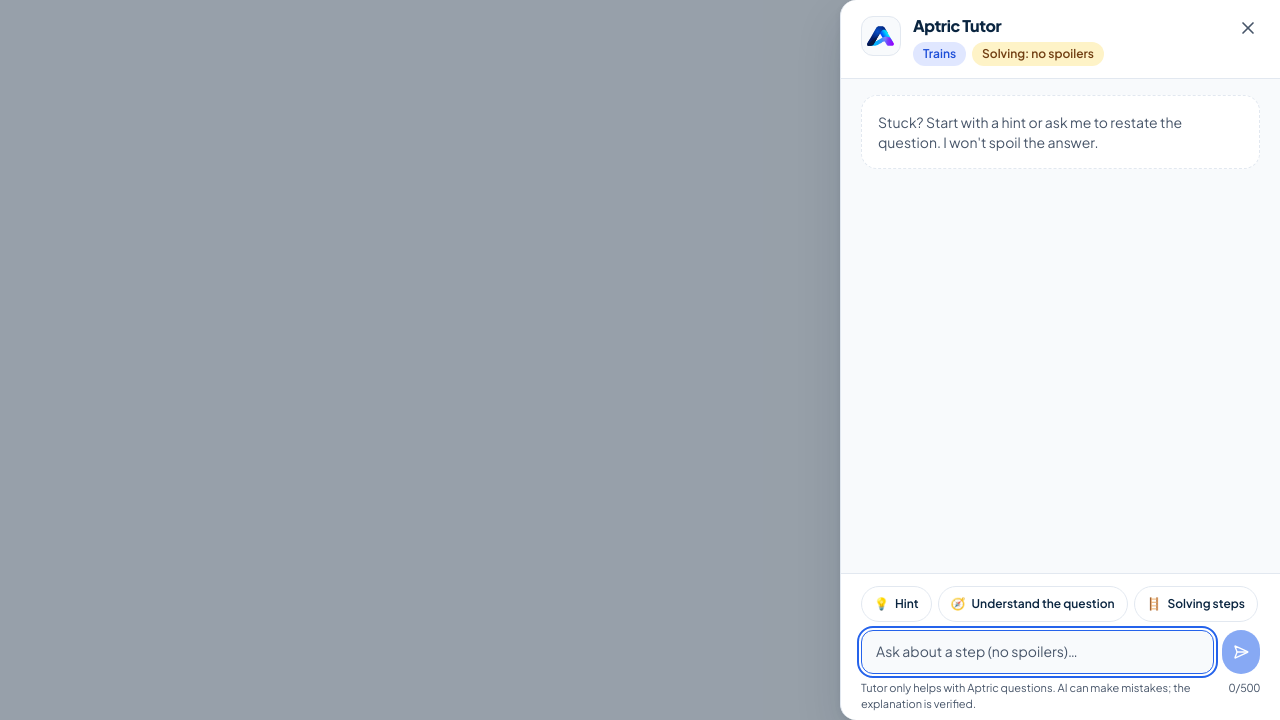
TutorPanel › a 409 from the server hands over to the give-up flow
This screenshot has width=1280, height=720.
Type "what is the answer" into the text box named "ask the tutor" at (1037, 652), box [861,630,1214,674]
Then press Enter
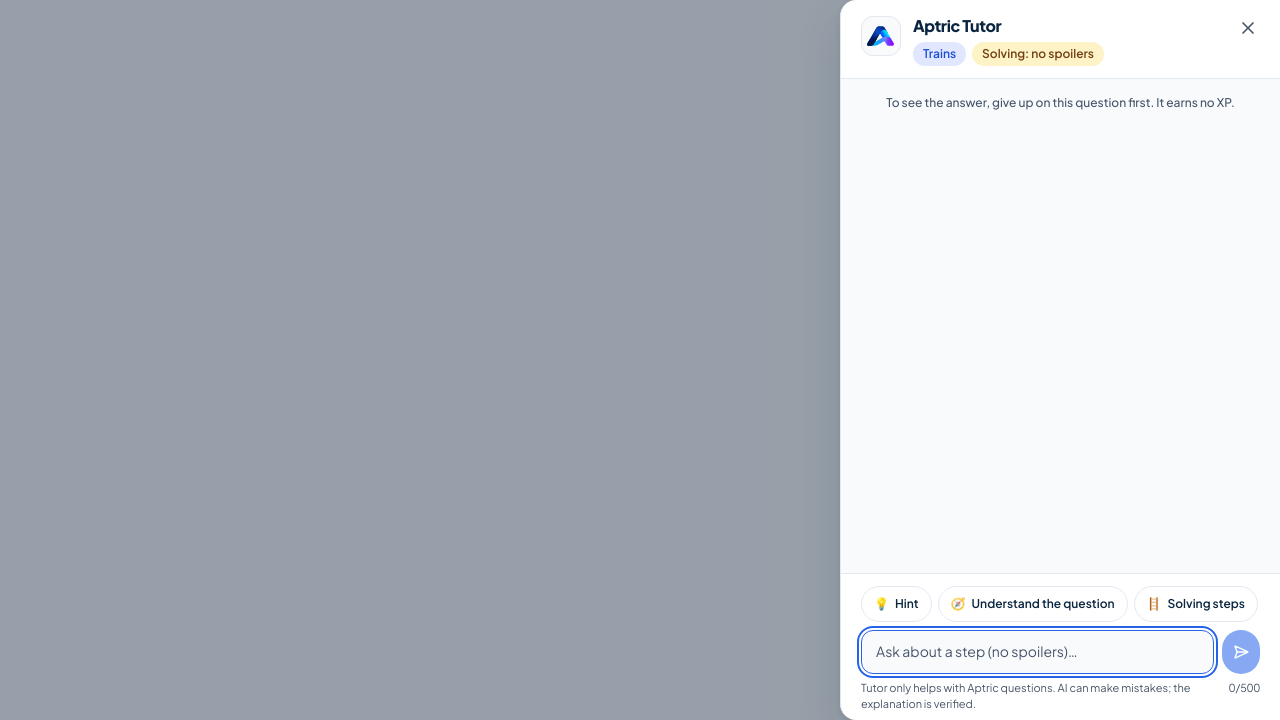
Expected: the text "give up on this question first" is shown, [886,95,1235,110]
